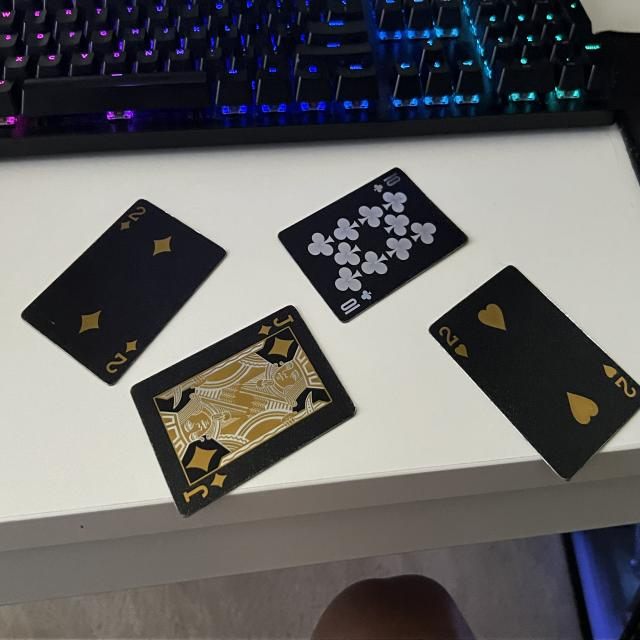10C: (369, 169, 406, 198), (340, 287, 373, 316)
2D: (103, 341, 140, 377), (118, 203, 149, 234)
2H: (599, 357, 639, 402), (434, 326, 469, 359)
JD: (181, 470, 229, 506), (256, 313, 296, 335)
